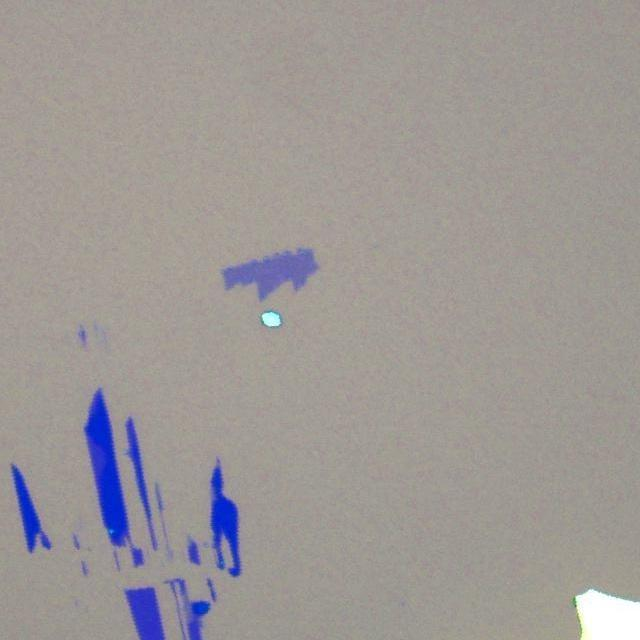monolayer-eWW4: (220, 246, 320, 303)
